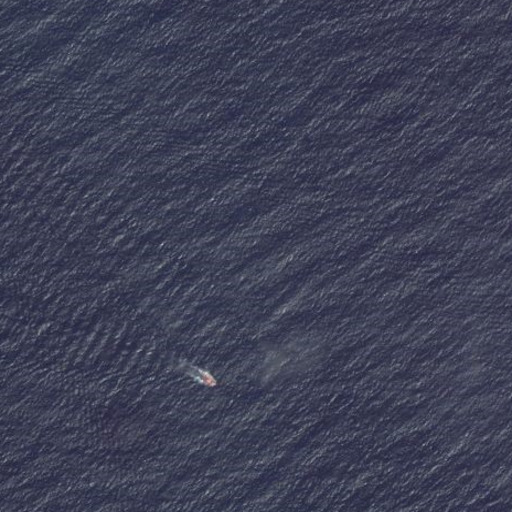ship: (198, 373, 217, 389)
